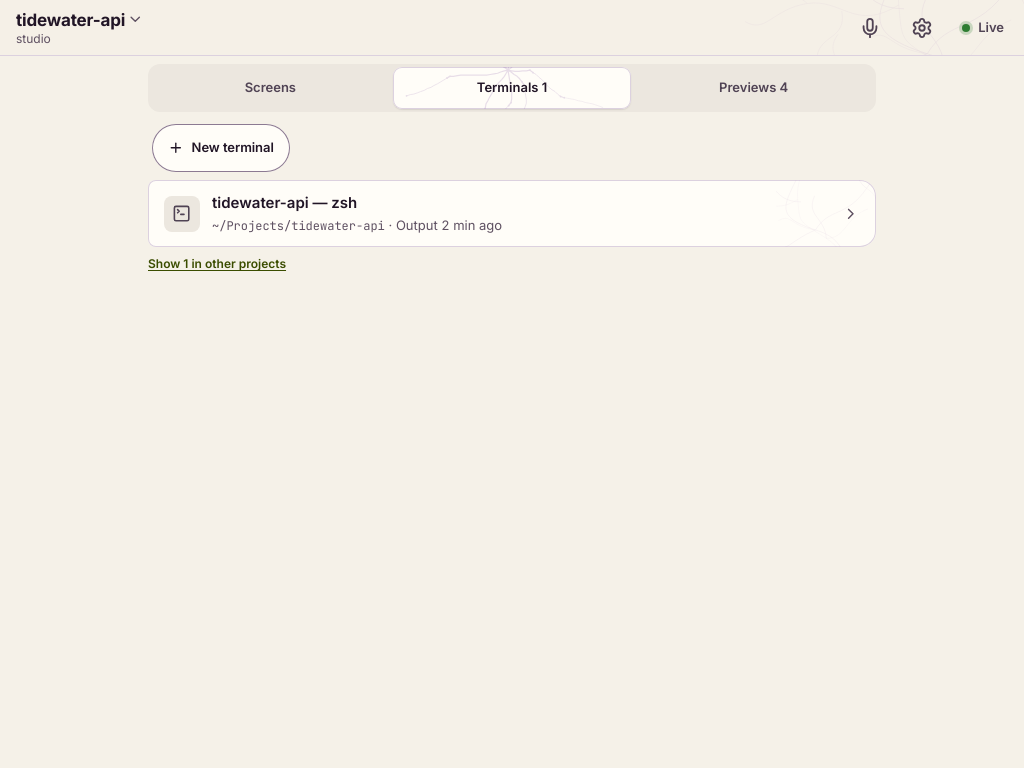
Test: heads Control with the project picker every root has, the computer under it, and Voice
expect the text with class "ctx__computer" reads "studio": met, box [16, 31, 51, 46]
expect the button named "Control by voice" is shown: met, box [846, 4, 894, 52]
Click the button with class "ctx__context": (80, 28) [8, 4, 152, 52]
Wait 900 ms
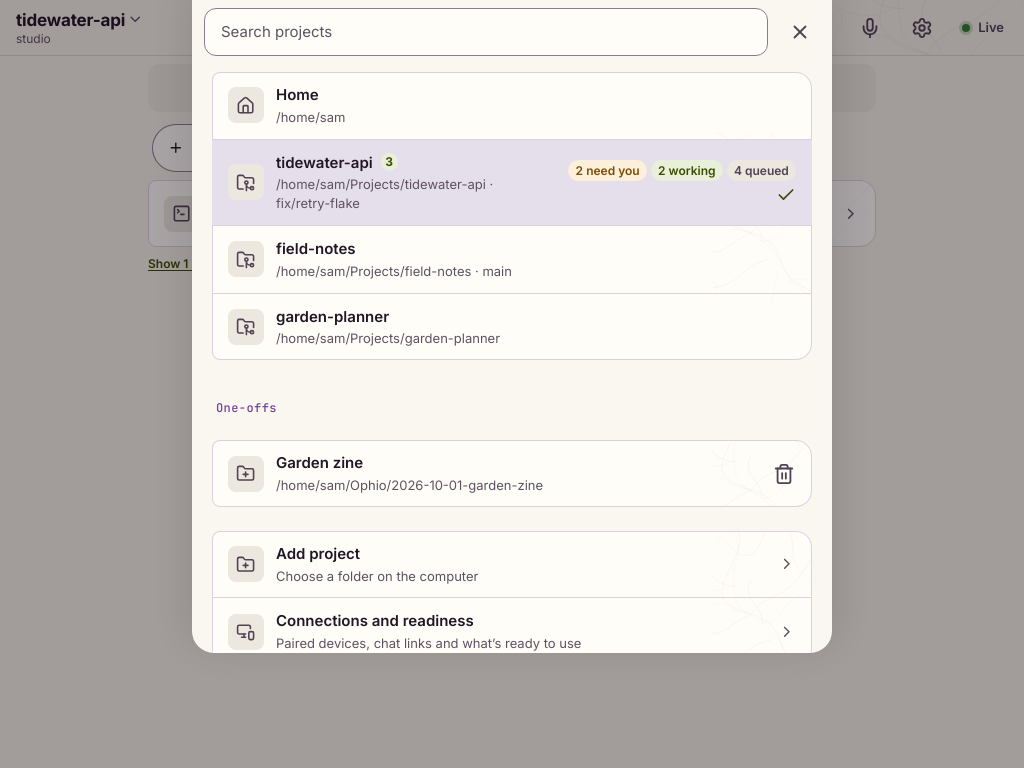
expect the dialog named "project" is shown: met, box [192, 0, 832, 653]
